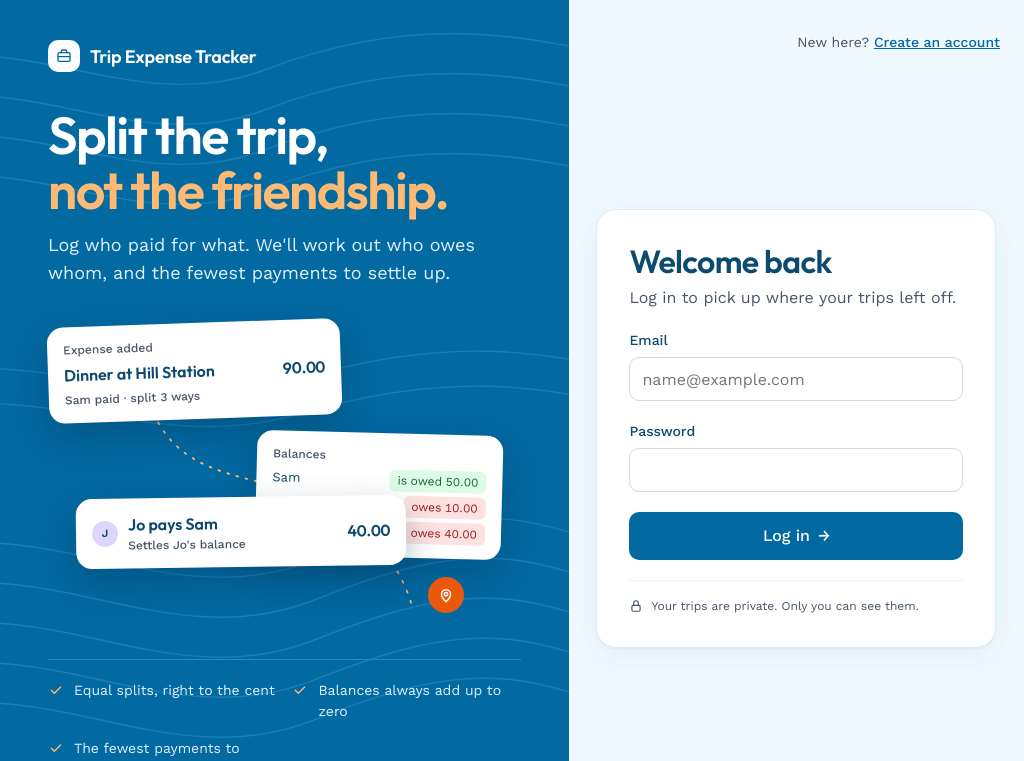
Test case: LoginComponent › shows the email message for an empty email and sends no request
Type "any-password-1" into the password field labelled "Password" at (796, 470), box top-left (629, 448), bottom-right (963, 492)
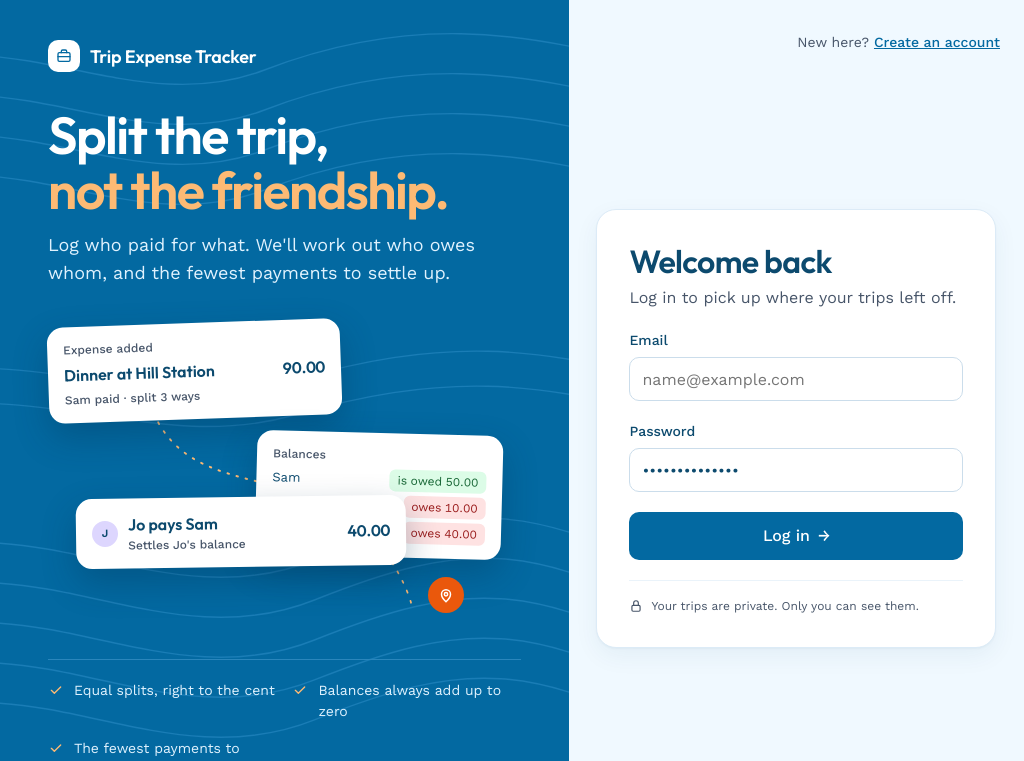
Submit the form "Log in", box top-left (629, 330), bottom-right (963, 560)
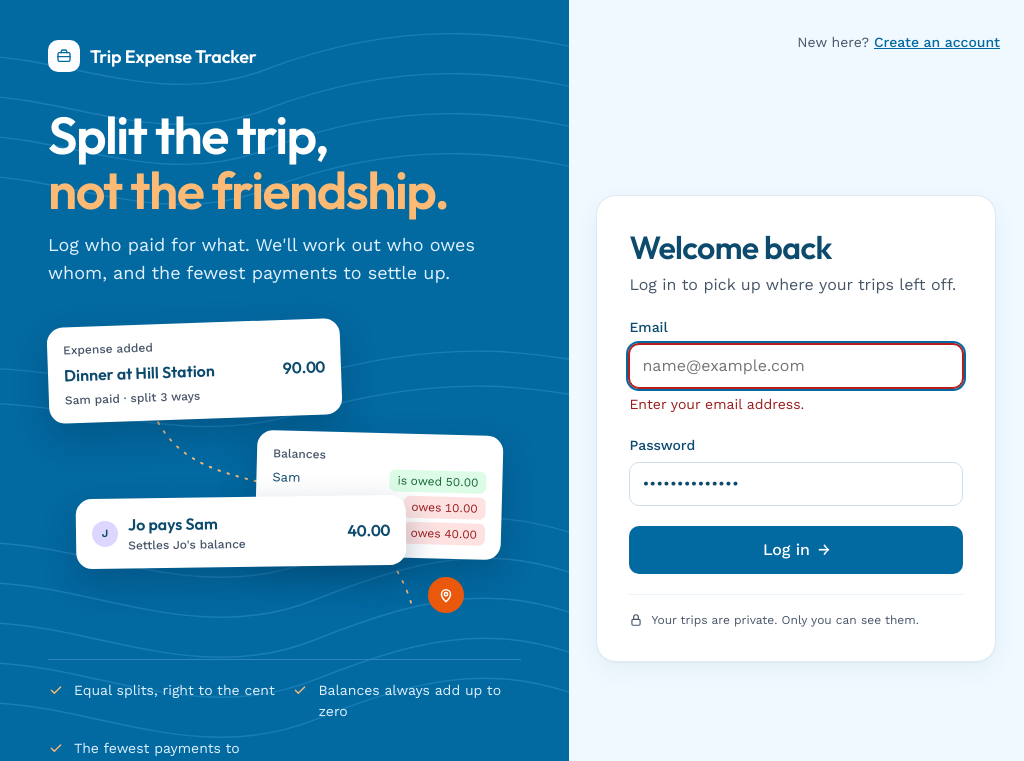
Expected: the text "Enter your email address." is shown, top-left (629, 396), bottom-right (804, 412)
